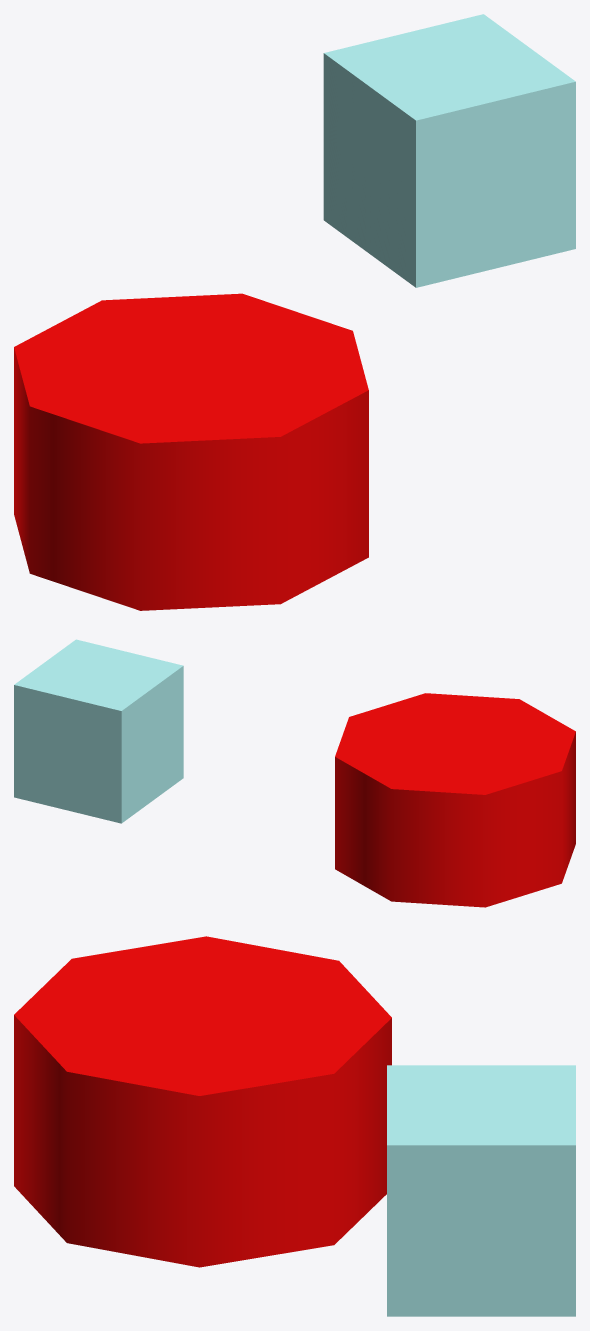
The model's file is sample-scene.glb.
3 renders of one model, top to bottom at view 1: azimuth 30°, elevation 25°; view 2: azimuth 150°, elevation 25°; view 3: azimuth 270°, elevation 25°, orthographic. The views are drawn at different scales.
Parts seen in each view (by area): view 1: Cylinder, Box; view 2: Cylinder, Box; view 3: Cylinder, Box.
Part boxes in pixels (x1,y1,x2,y2): Cylinder: [14, 293, 368, 610]; Box: [323, 14, 575, 287]; Cylinder: [335, 693, 575, 907]; Box: [14, 639, 183, 823]; Cylinder: [14, 936, 391, 1267]; Box: [387, 1065, 575, 1316].
Bounding box in the file's own units: 3.97 × 1.63 × 2.97.
